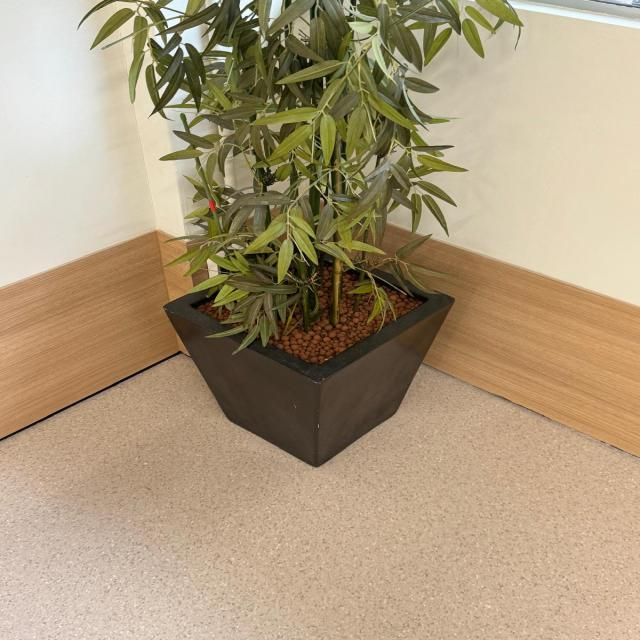Pot: (159, 234, 456, 470)
